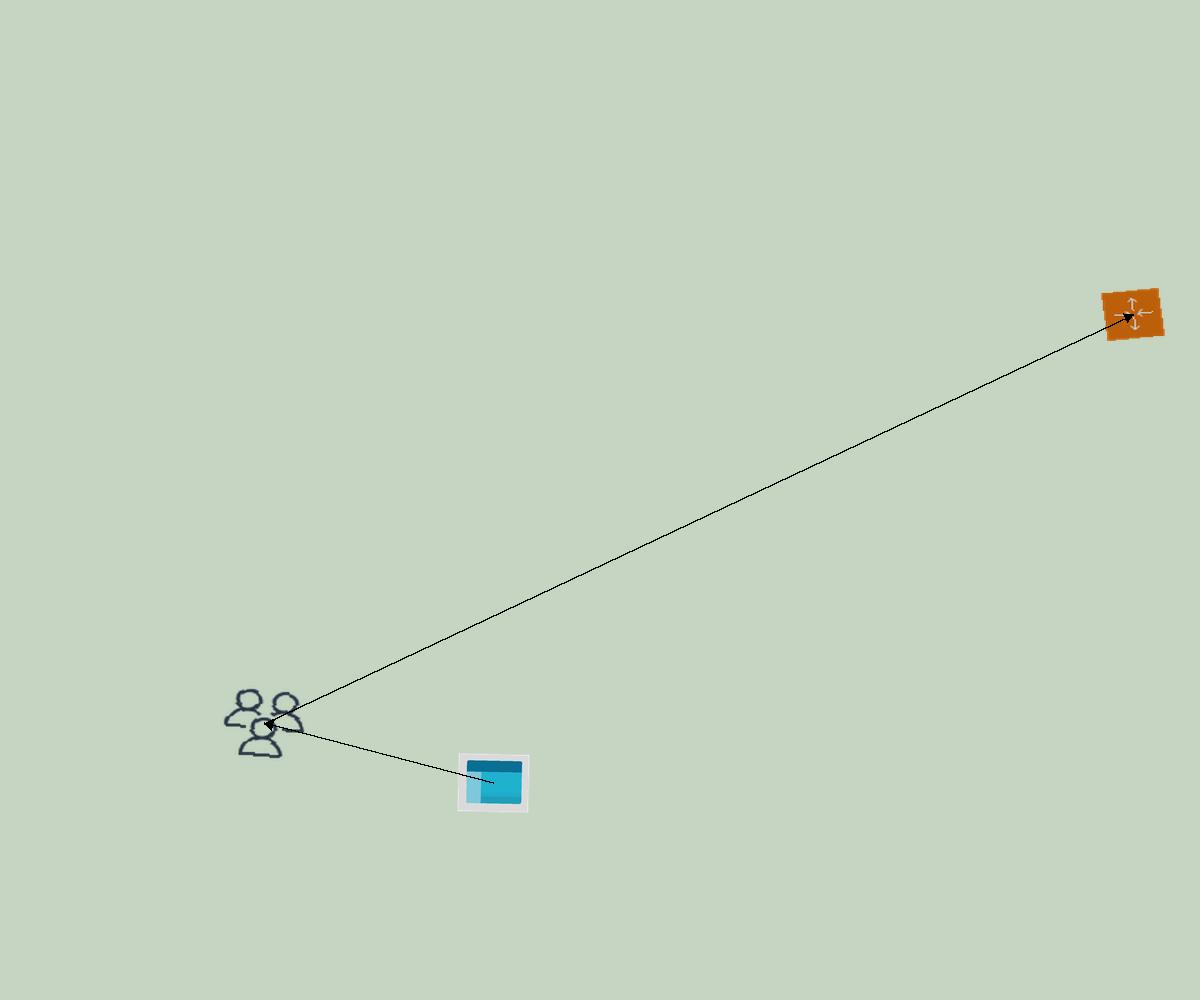AWS-Res_Users: (215, 683, 313, 764)
AWS-Scaling-group: (1100, 287, 1166, 342)
Azure_management-portal: (457, 753, 530, 813)
